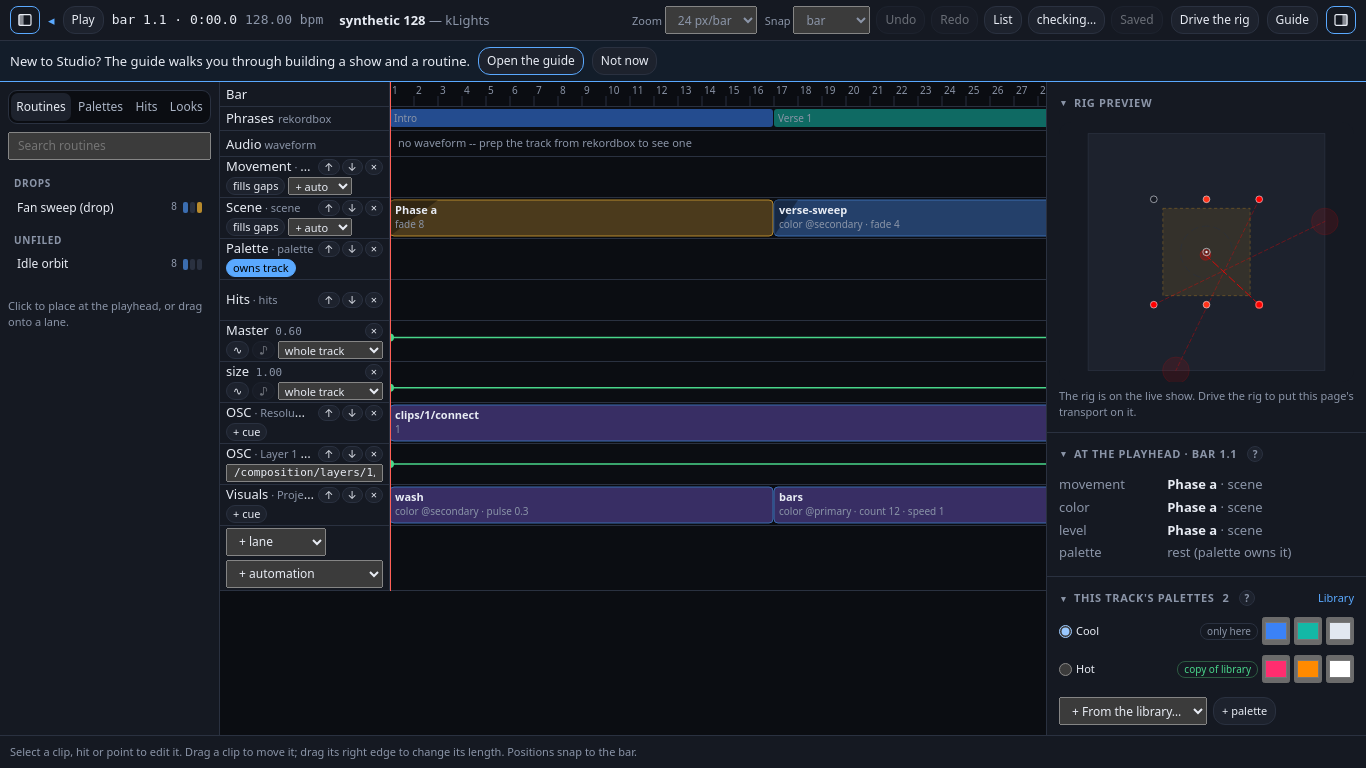
it: designer › places this rig's looks and snapshots from the browser
Click the tab "Looks".
click(186, 107)  # box [165,93,208,121]
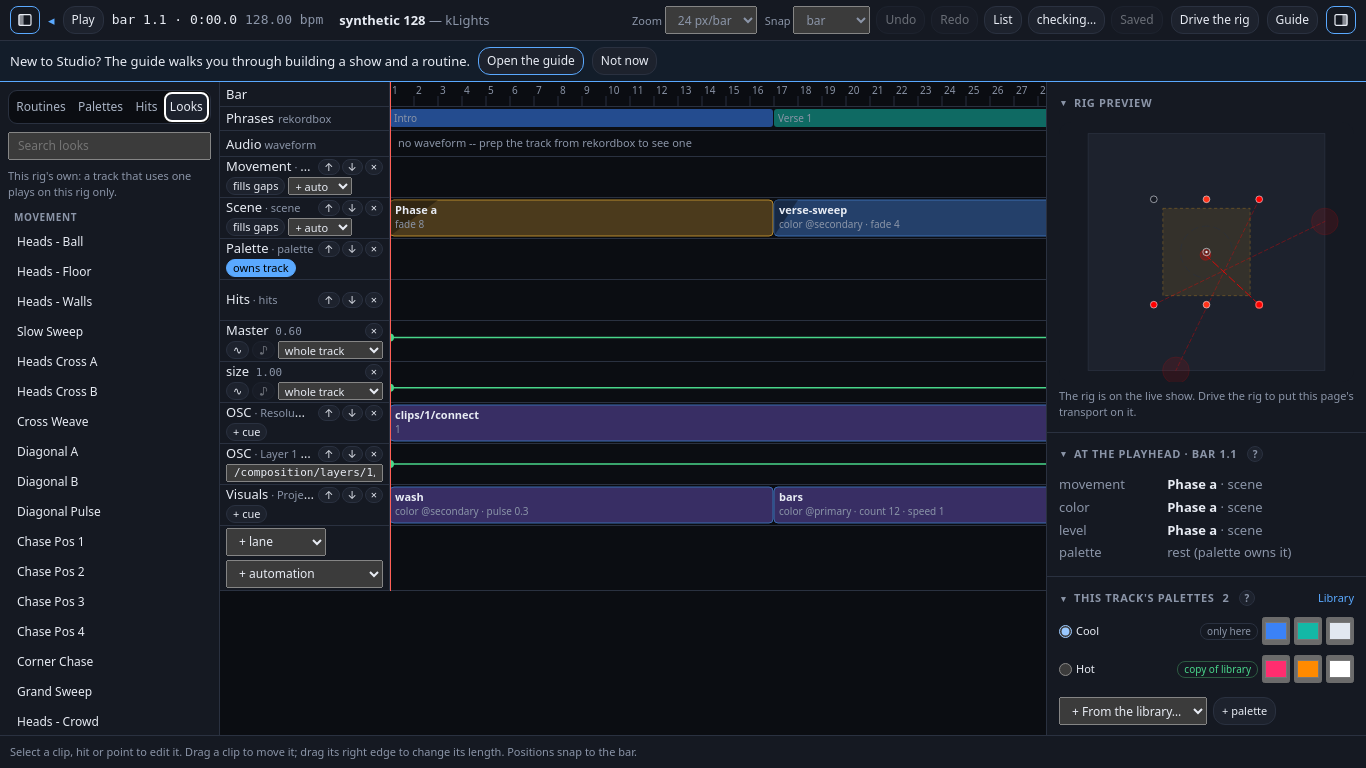
Type "walls" into the search field labelled "Search looks".
click(110, 146); type("walls")  # box [8,132,211,160]
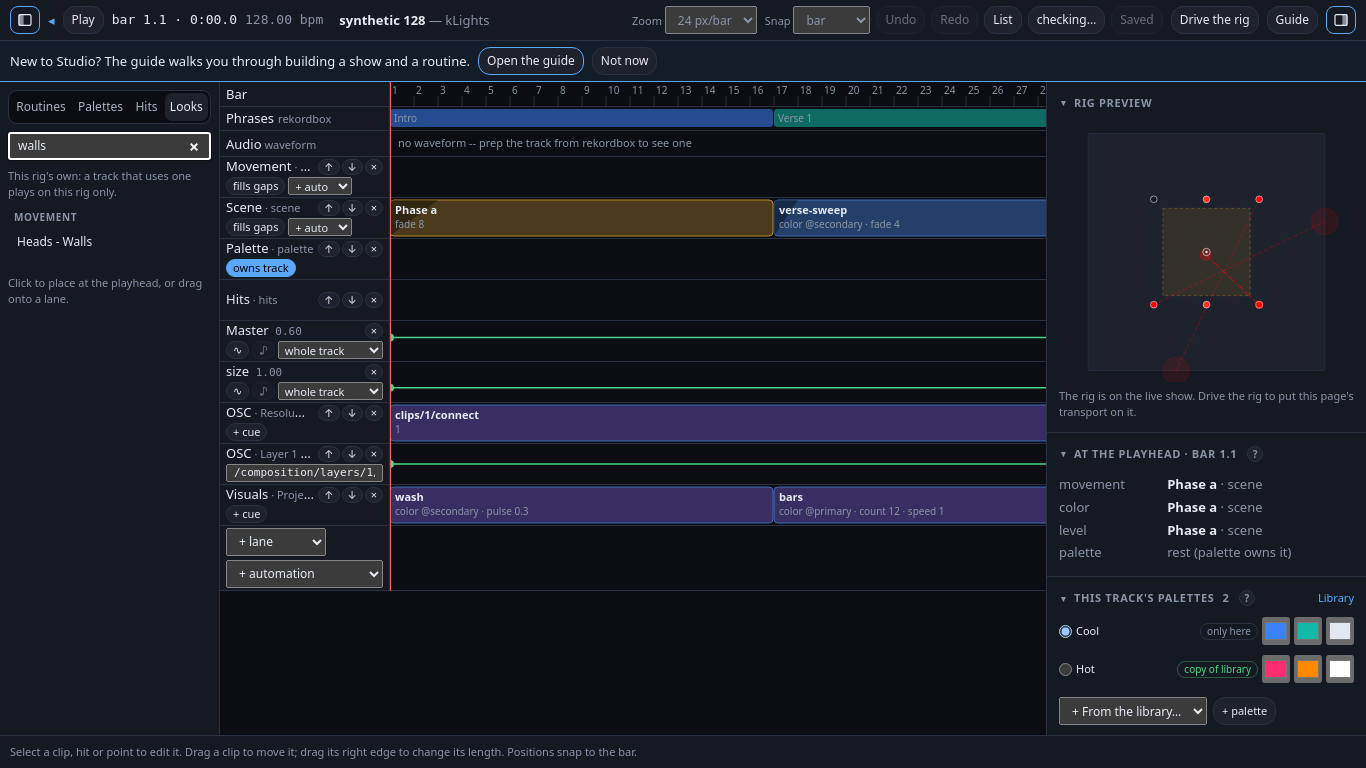
Click the button "Heads - Walls".
click(110, 241)  # box [8,226,211,256]
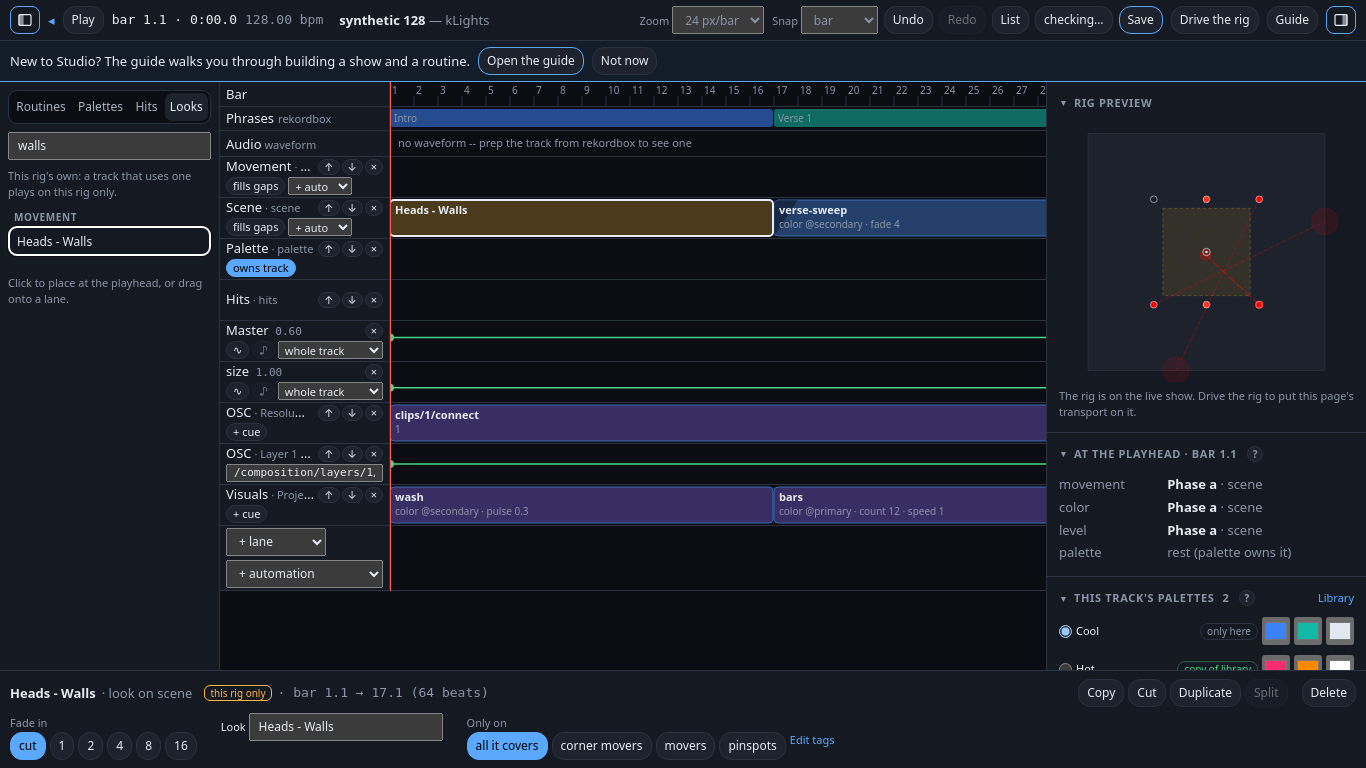
Expected: the field labelled "Heads - Walls at bar 1.1" is shown, [395,202,468,217]
Clear the search field named "Search looks" at (110, 146), box [8,132,211,160]
(page scrolled)
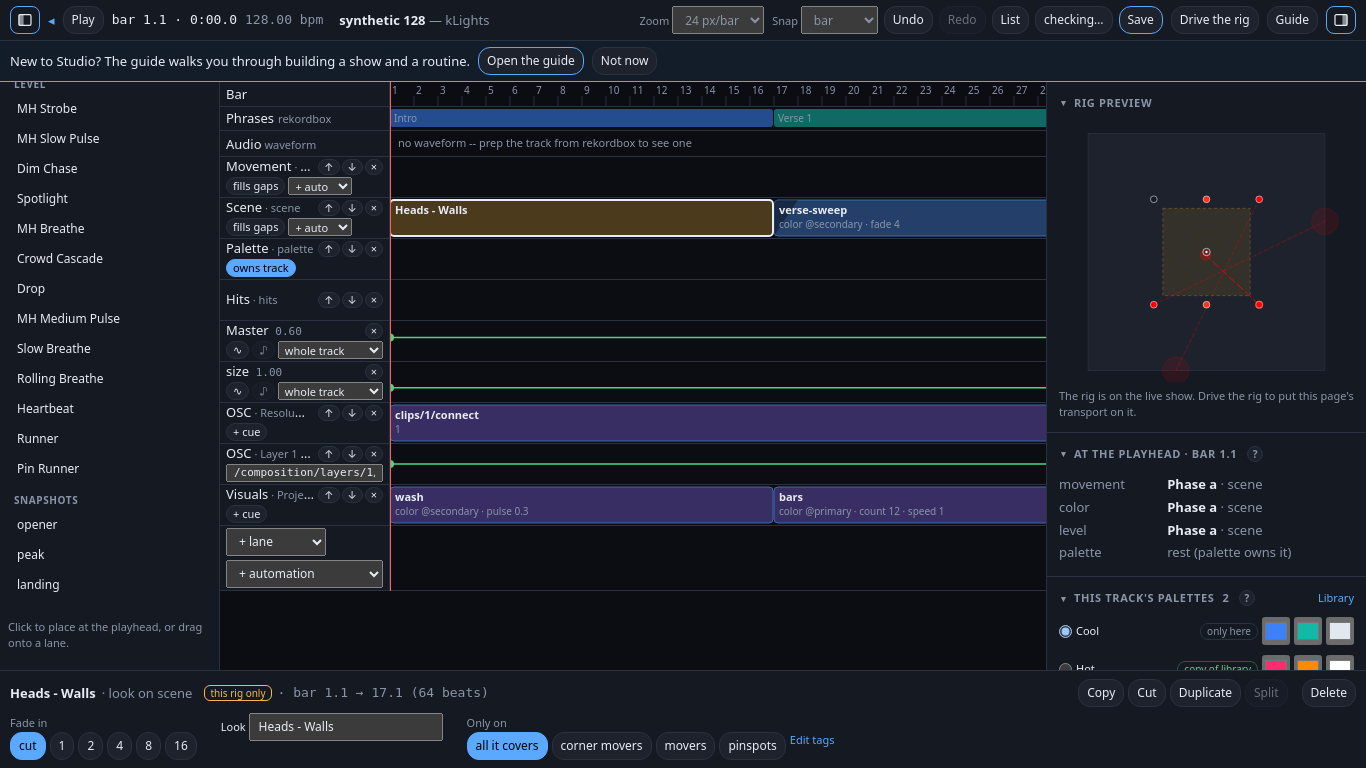
Click the button "peak".
click(110, 555)  # box [8,540,211,570]
(page scrolled)
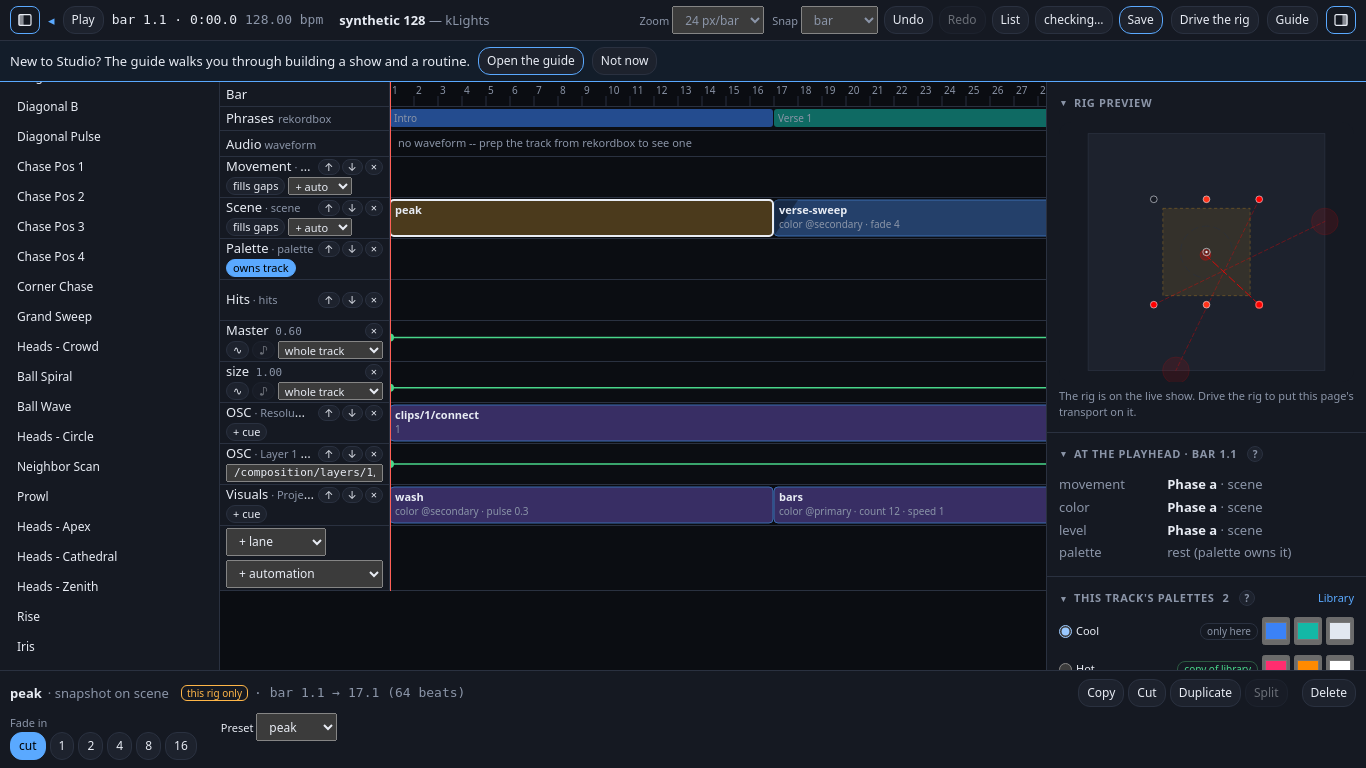
Expected: the field labelled "peak at bar 1.1" is shown, [395,202,422,217]
Result: the button "Ball Spiral" is shown at [8,361,211,391]
